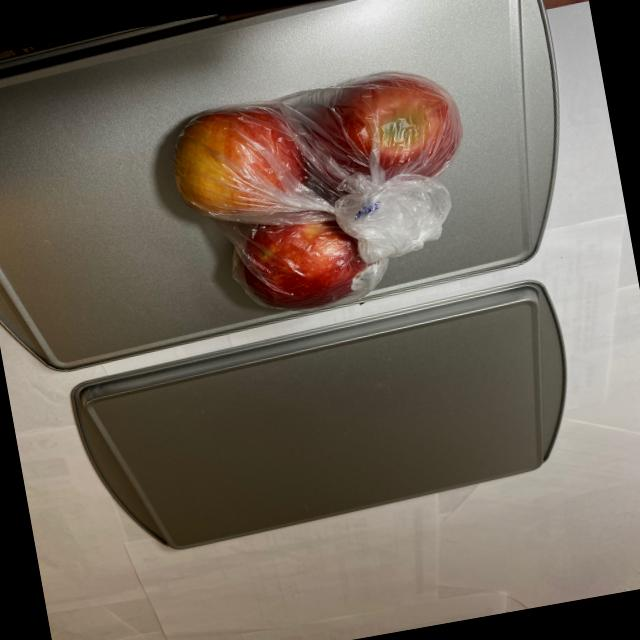apple: (150, 56, 488, 332)
